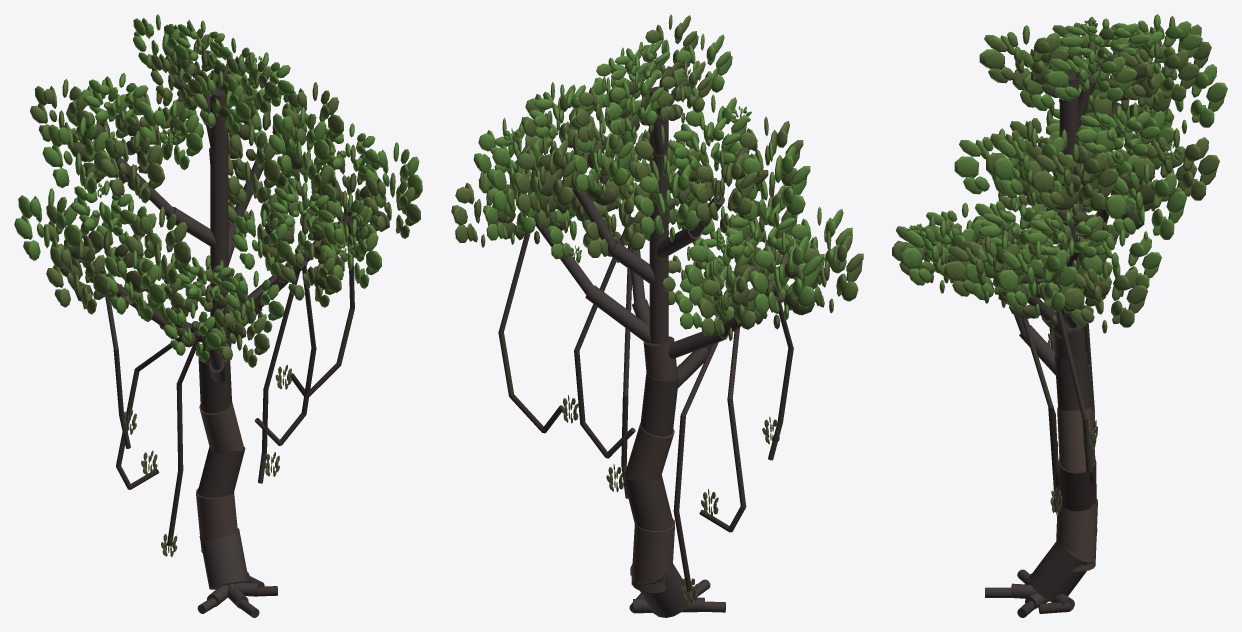
Rendered from CMU3DBroadleafTreeLarge04.glb.
3 renders of one model, left to right at view 1: azimuth 30°, elevation 25°; view 2: azimuth 150°, elevation 25°; view 3: azimuth 270°, elevation 25°, orthographic. The views are drawn at different scales.
Visible parts, largest first — view 1: irregular rounded leaf cluster (×37), off-center crown cluster (×7), rounded leaf core (×7), inferred hidden trunk continuation, source curved trunk 1, source curved trunk 3, source curved trunk 2, source curved trunk 4, source curved trunk 5, inferred crown branch 3.1, inferred hanging attachment 4; view 2: irregular rounded leaf cluster (×32), off-center crown cluster (×5), rounded leaf core (×5), inferred hidden trunk continuation, source curved trunk 2, source curved trunk 3, source curved trunk 5, source curved trunk 4, source curved trunk 1, inferred crown branch 4.1, source curved trunk 6, inferred crown branch 2.1 (+9 smaller); view 3: irregular rounded leaf cluster (×34), off-center crown cluster (×5), rounded leaf core (×3), source curved trunk 1, source curved trunk 2, source curved trunk 4, source curved trunk 5, source curved trunk 3, inferred hidden trunk continuation, source curved trunk 6, inferred hanging attachment 1, inferred crown branch 7.1 (+1 smaller).
Boxes of the visible parts, x1,y1,x2,y2 form: irregular rounded leaf cluster (×37): (14, 14, 422, 367); off-center crown cluster (×7): (70, 20, 379, 300); rounded leaf core (×7): (59, 50, 389, 351); inferred hidden trunk continuation: (210, 88, 228, 330); source curved trunk 1: (199, 528, 248, 589); source curved trunk 3: (197, 447, 245, 498); source curved trunk 2: (196, 488, 237, 552); source curved trunk 4: (199, 401, 244, 453); source curved trunk 5: (198, 357, 231, 413); inferred crown branch 3.1: (166, 207, 216, 247); inferred hanging attachment 4: (263, 252, 304, 389); irregular rounded leaf cluster (×32): (451, 14, 863, 340); off-center crown cluster (×5): (490, 39, 794, 258); rounded leaf core (×5): (492, 61, 822, 329); inferred hidden trunk continuation: (649, 86, 668, 343); source curved trunk 2: (631, 518, 674, 592); source curved trunk 3: (623, 475, 673, 531); source curved trunk 5: (640, 372, 679, 436); source curved trunk 4: (624, 423, 674, 481); source curved trunk 1: (630, 563, 690, 617); inferred crown branch 4.1: (585, 285, 650, 342); source curved trunk 6: (643, 336, 677, 380); inferred crown branch 2.1: (608, 240, 655, 284); irregular rounded leaf cluster (×34): (892, 14, 1227, 333); off-center crown cluster (×5): (978, 18, 1168, 261); rounded leaf core (×3): (998, 40, 1153, 327); source curved trunk 1: (1029, 542, 1095, 602); source curved trunk 2: (1056, 498, 1097, 571); source curved trunk 4: (1057, 406, 1094, 471); source curved trunk 5: (1054, 350, 1090, 410); source curved trunk 3: (1058, 457, 1096, 511); inferred hidden trunk continuation: (1059, 72, 1078, 288); source curved trunk 6: (1054, 325, 1086, 359); inferred hanging attachment 1: (1056, 311, 1087, 419); inferred crown branch 7.1: (1019, 325, 1055, 375).
Size of the model in its own units: 2.85 by 4.18 by 2.2.
